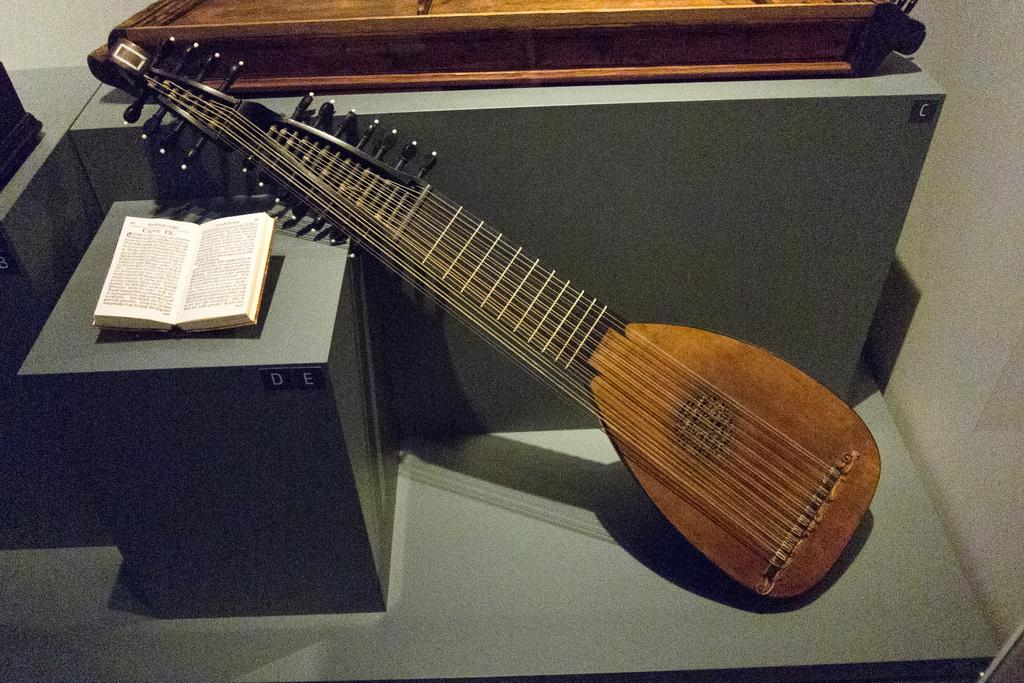book: (92, 213, 280, 338)
